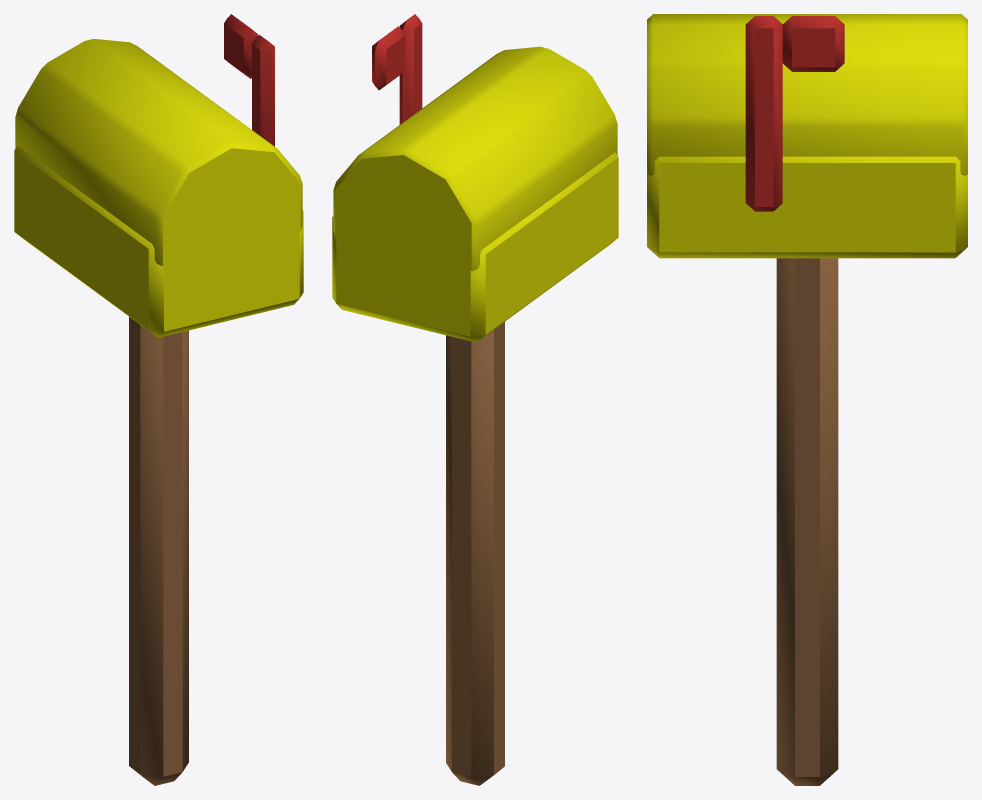
File: Mailbox.fbx
3 renders of one model, left to right at view 1: azimuth 30°, elevation 25°; view 2: azimuth 150°, elevation 25°; view 3: azimuth 270°, elevation 25°, orthographic. The views are drawn at different scales.
Visible parts, largest first — view 1: Mailbox; view 2: Mailbox; view 3: Mailbox.
Part boxes in pixels (left/top/right/bottom): Mailbox: left=14, top=14, right=303, bottom=785; Mailbox: left=332, top=14, right=618, bottom=785; Mailbox: left=647, top=14, right=967, bottom=785.
Size of the model in its own units: 0.35 by 1.45 by 0.52.
